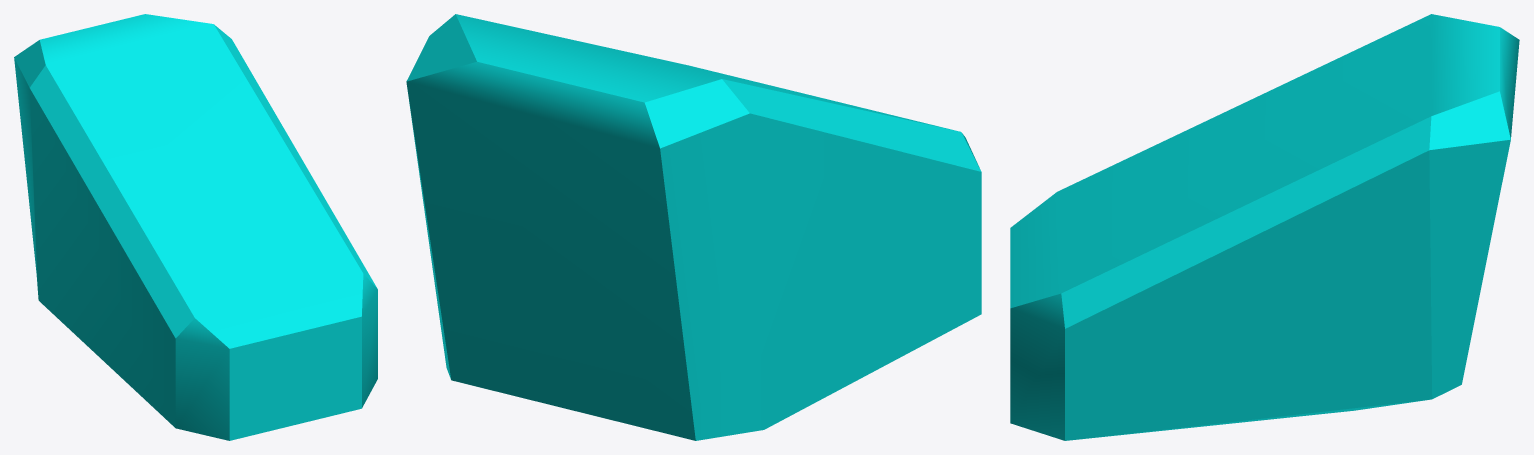
The model's file is SM_Env_Stone_Stairs_02_Collision.fbx.
The picture shows the model from 3 angles, left to right: view 1: azimuth 30°, elevation 25°; view 2: azimuth 150°, elevation 25°; view 3: azimuth 270°, elevation 25°; orthographic projection. The views are drawn at different scales.
Parts seen in each view (by area): view 1: SM_Env_Stone_Stairs_02_Collision; view 2: SM_Env_Stone_Stairs_02_Collision; view 3: SM_Env_Stone_Stairs_02_Collision.
Boxes of the visible parts, box(x1,y1,x2,y2) form: SM_Env_Stone_Stairs_02_Collision: box(14, 14, 377, 440); SM_Env_Stone_Stairs_02_Collision: box(406, 14, 981, 440); SM_Env_Stone_Stairs_02_Collision: box(1010, 14, 1519, 440).
Bounding box in the file's own units: 202 × 254 × 353.
